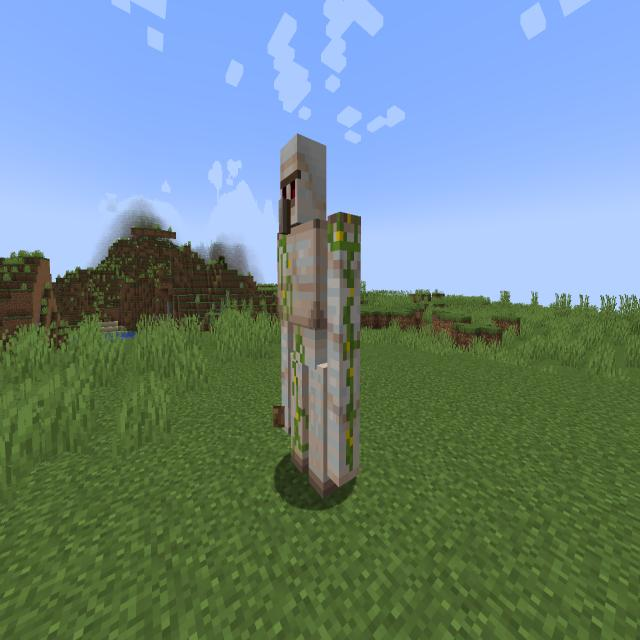iron golem: (263, 127, 371, 525)
